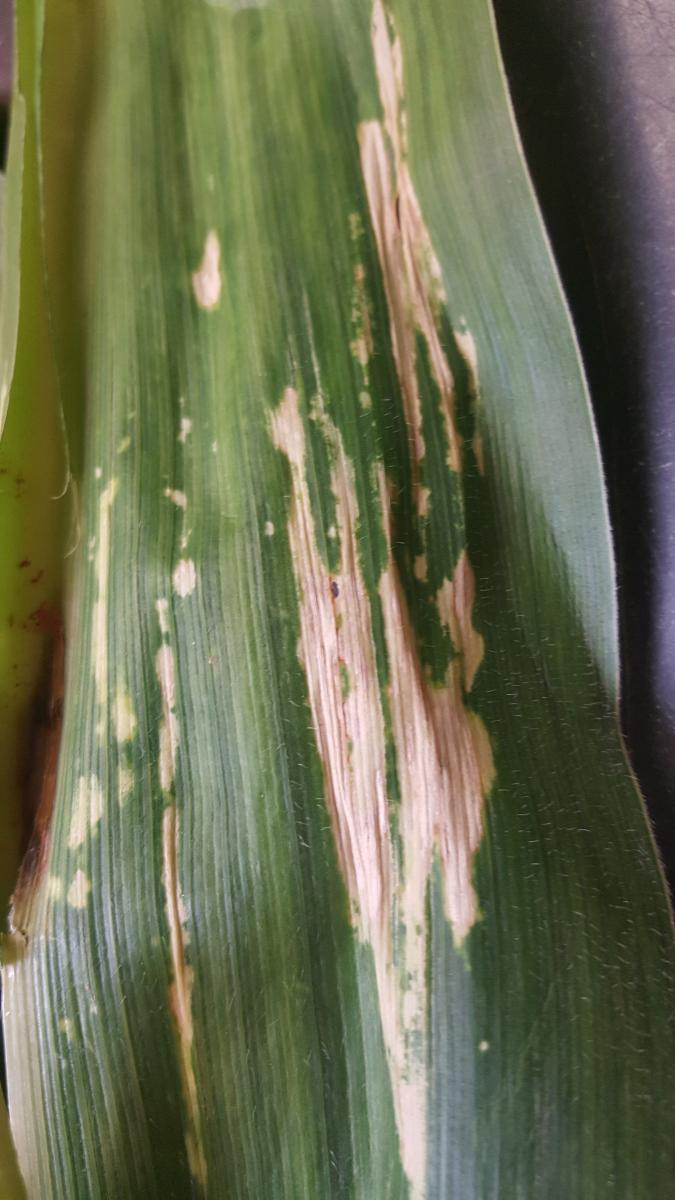Corn leaf blight: (46, 4, 644, 1200)
